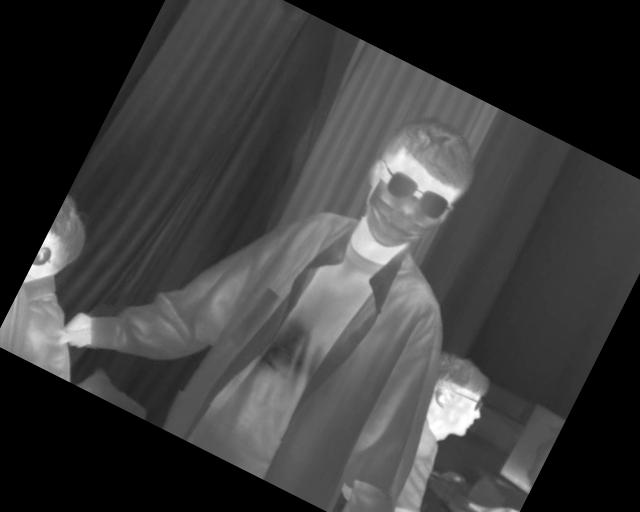face: (345, 101, 491, 267)
